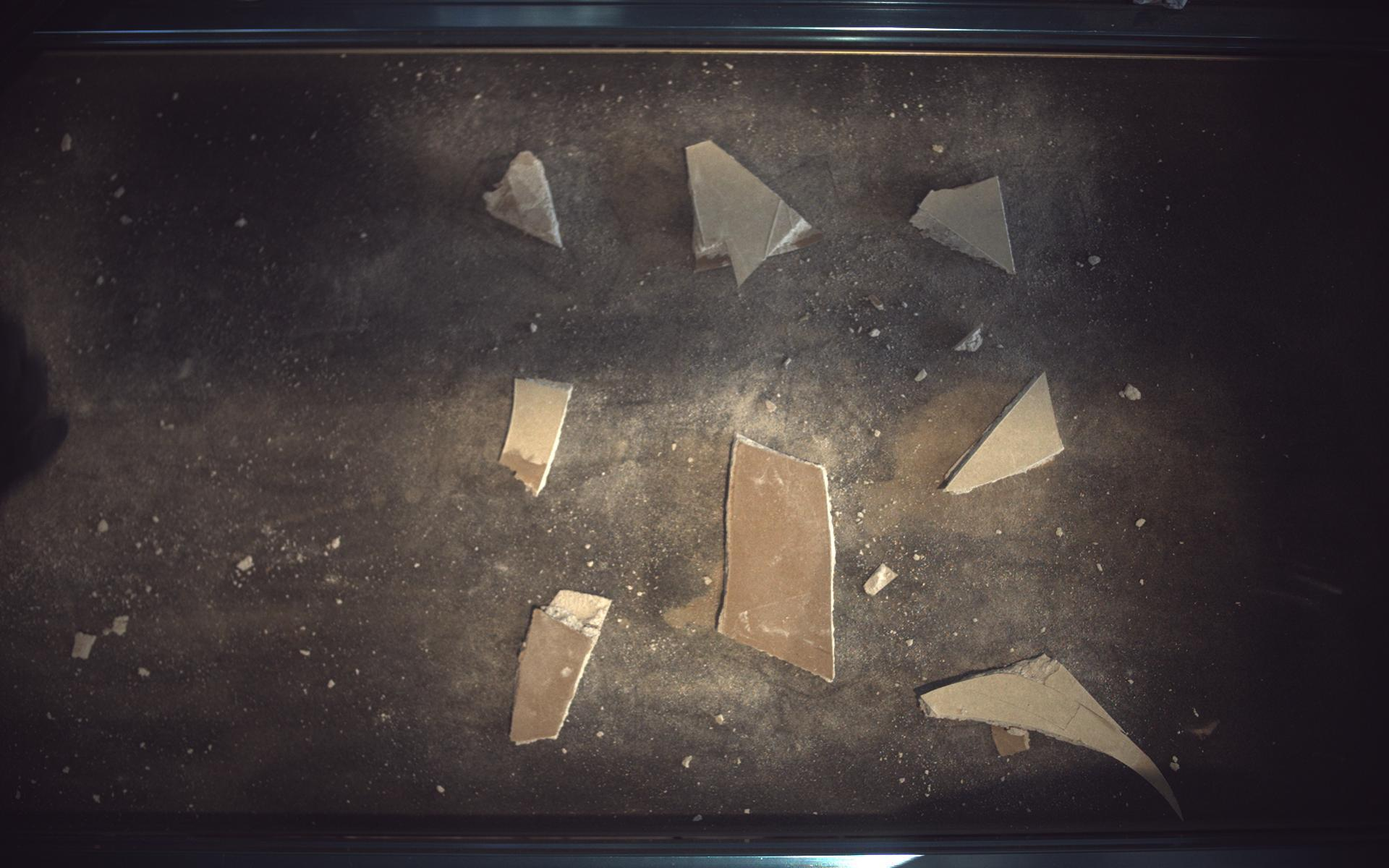gypsum_board: (922, 655, 1184, 820), (719, 435, 836, 682), (687, 139, 823, 285), (510, 591, 612, 746), (943, 372, 1066, 495), (912, 175, 1018, 274), (500, 378, 574, 497), (483, 150, 563, 247)
